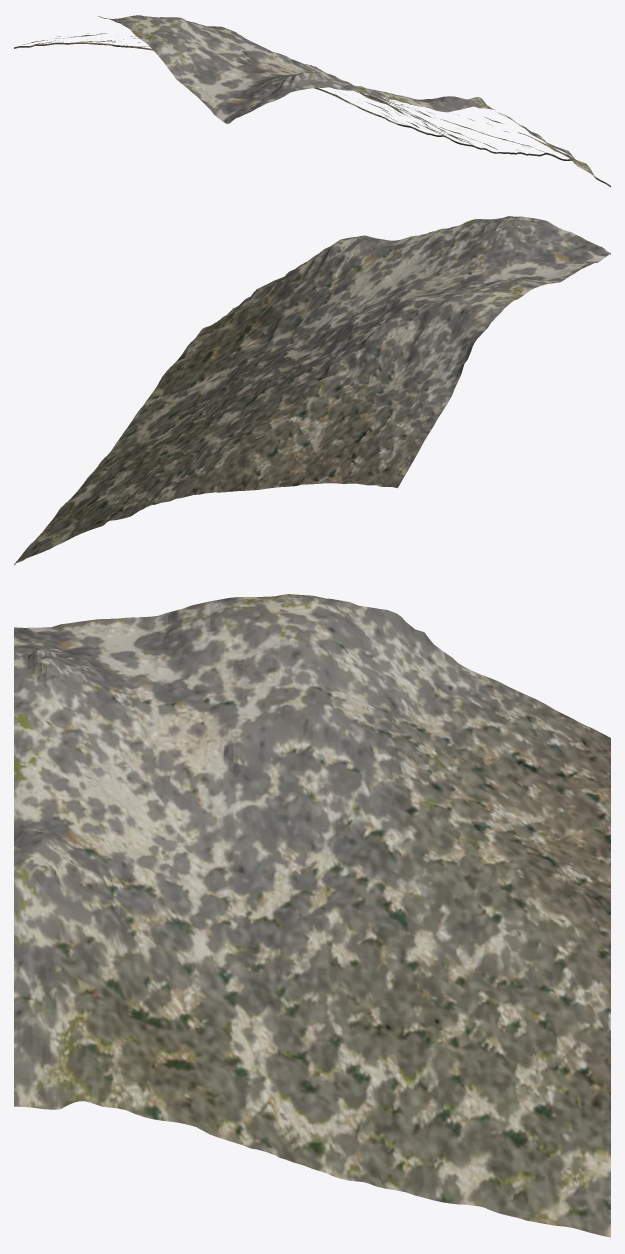
3 renders of one model, top to bottom at view 1: azimuth 30°, elevation 25°; view 2: azimuth 150°, elevation 25°; view 3: azimuth 270°, elevation 25°, orthographic. The views are drawn at different scales.
Bounding box in the file's own units: 250 × 171 × 241.
1 material, 1 textured.
